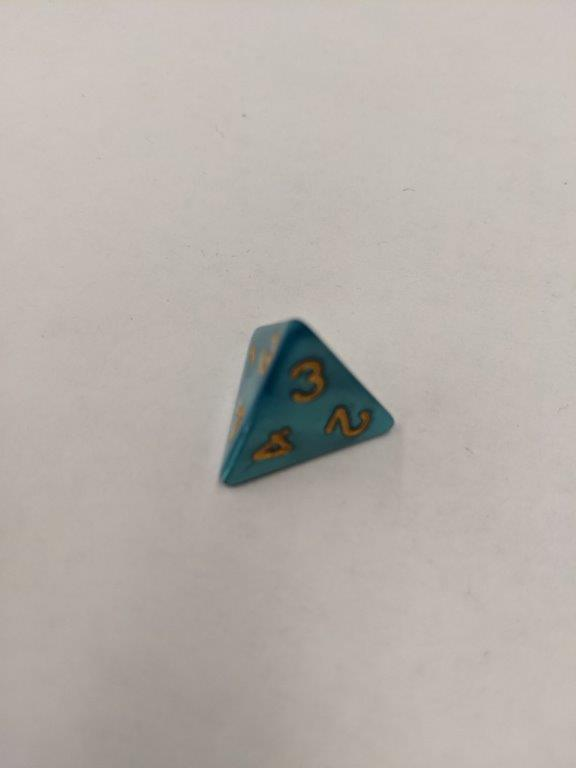d4-3: (212, 315, 395, 491)
